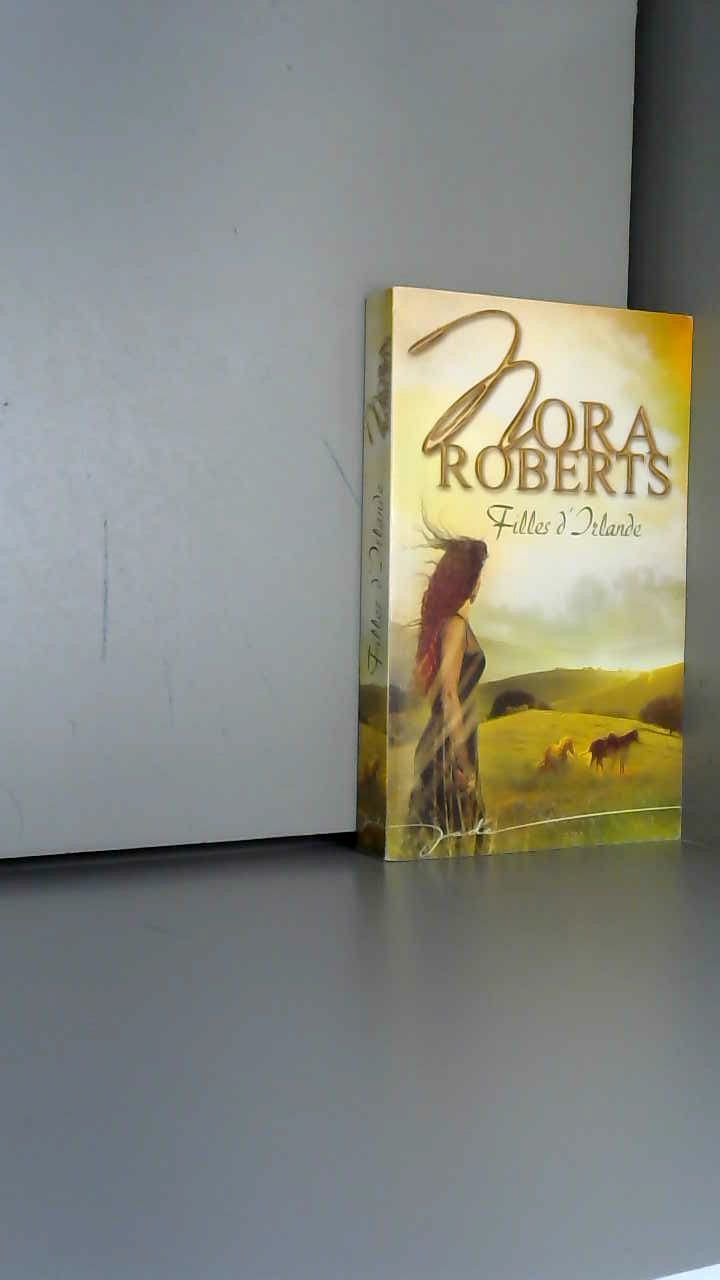book: (330, 260, 720, 920)
